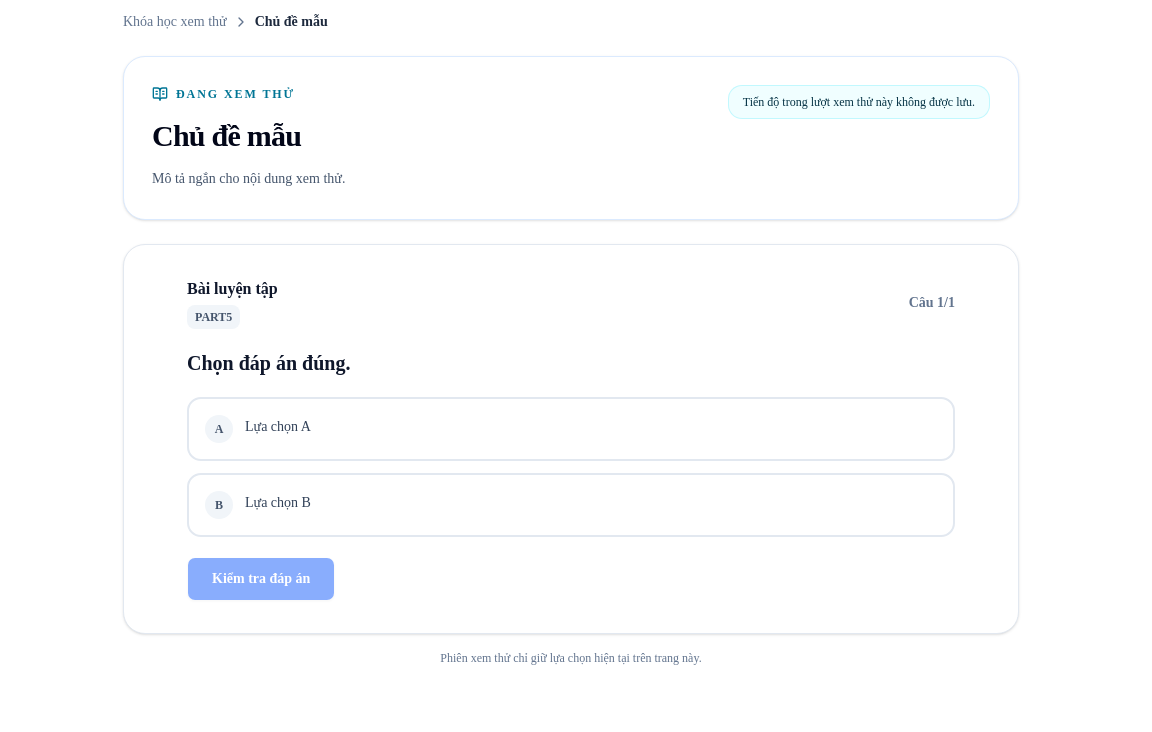
Scenario: public course Preview experience › preserves a selected option after a recoverable service error
The image size is (1152, 732).
Click the button with aria-label "A. Lựa chọn A" at (278,426), box [187,396,955,460]
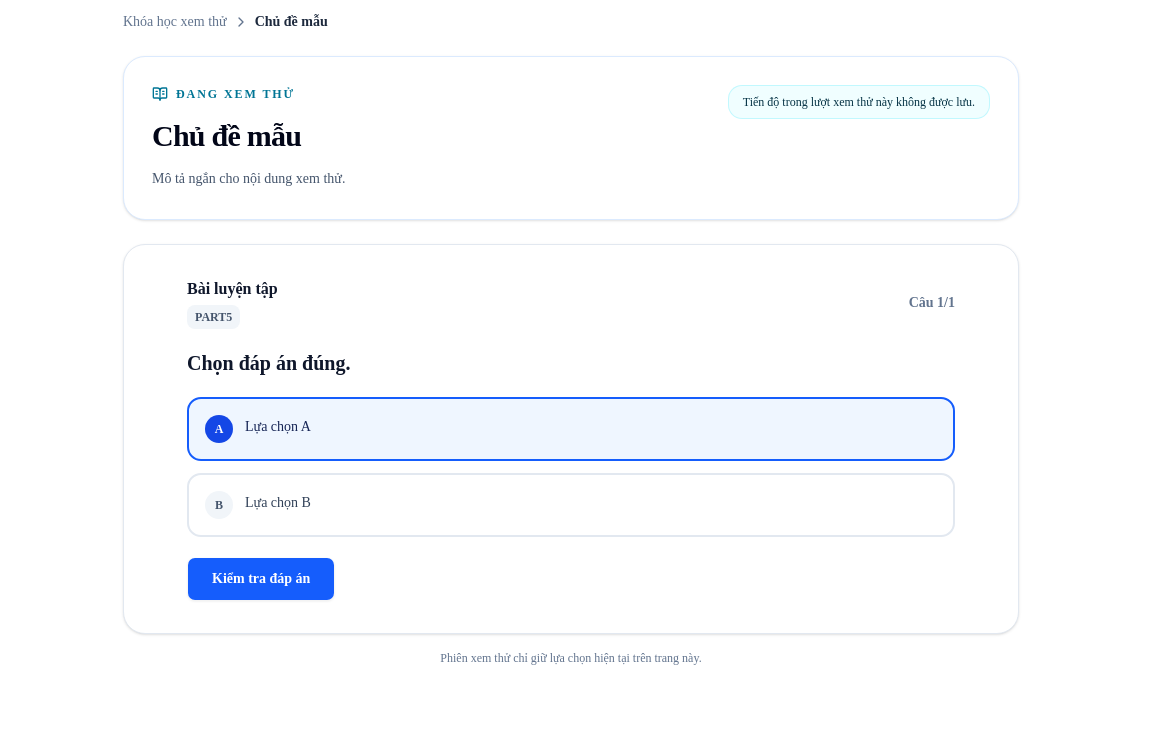
Click the button "Kiểm tra đáp án" at (261,578), box [187,556,335,600]
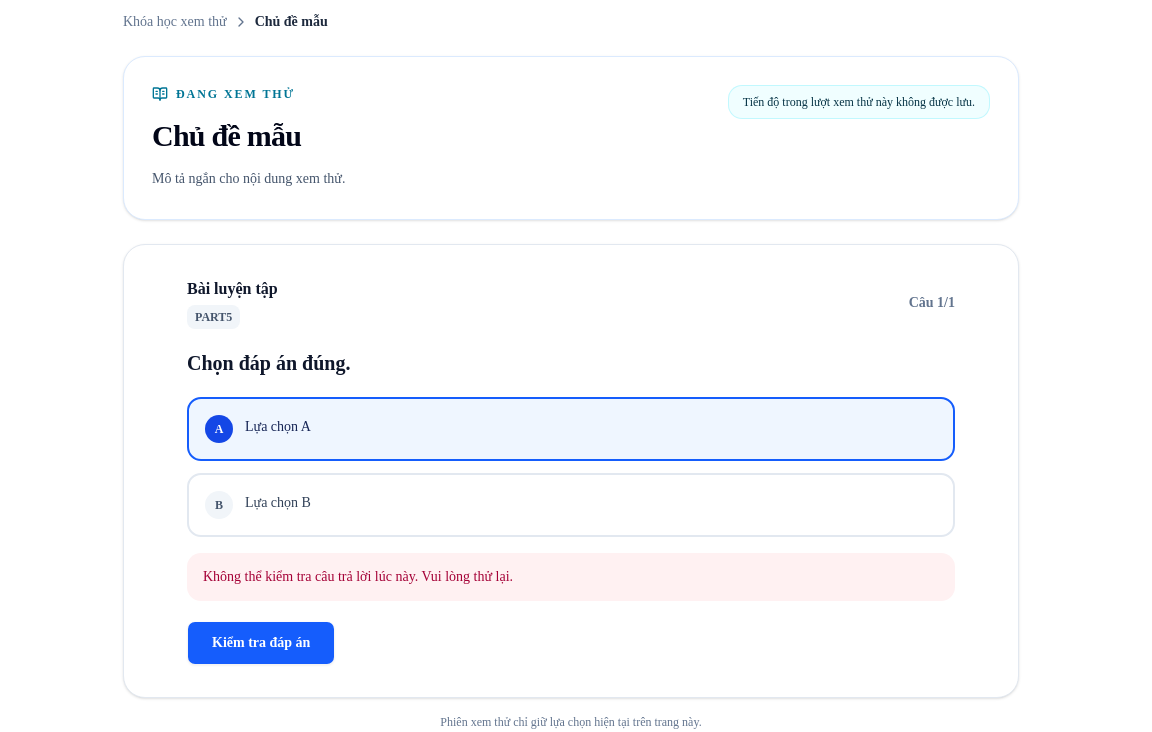
Now the message "Không thể kiểm tra câu trả lời lúc này. Vui lòng thử lại." is shown, box [187,552,955,600]
